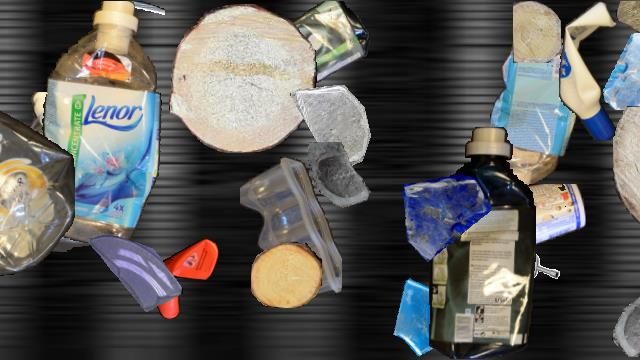glass: (88, 226, 182, 320), (397, 172, 491, 266), (389, 269, 479, 359), (290, 85, 374, 169), (303, 142, 381, 220), (600, 33, 640, 109), (611, 292, 640, 356)
metal: (102, 1, 164, 63), (518, 252, 566, 300)
plastic: (24, 1, 164, 251), (428, 127, 536, 359), (17, 92, 151, 252), (215, 1, 371, 103), (0, 66, 74, 276), (490, 35, 576, 209), (240, 157, 342, 299), (559, 1, 623, 139), (486, 184, 586, 254), (145, 239, 219, 319)
wood: (168, 4, 316, 152), (251, 242, 321, 308), (613, 105, 640, 233), (513, 1, 561, 63), (616, 1, 640, 109)
